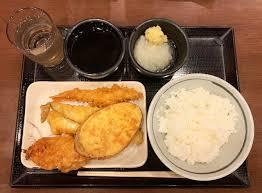satumaimo: (78, 104, 140, 156)
